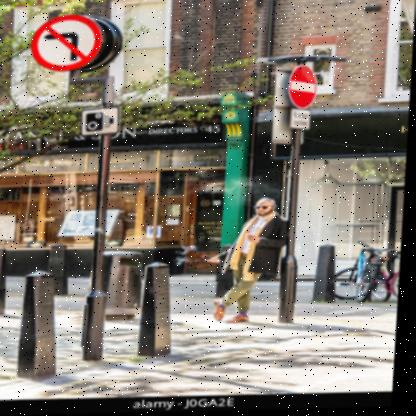No left turn: (20, 14, 114, 73)
